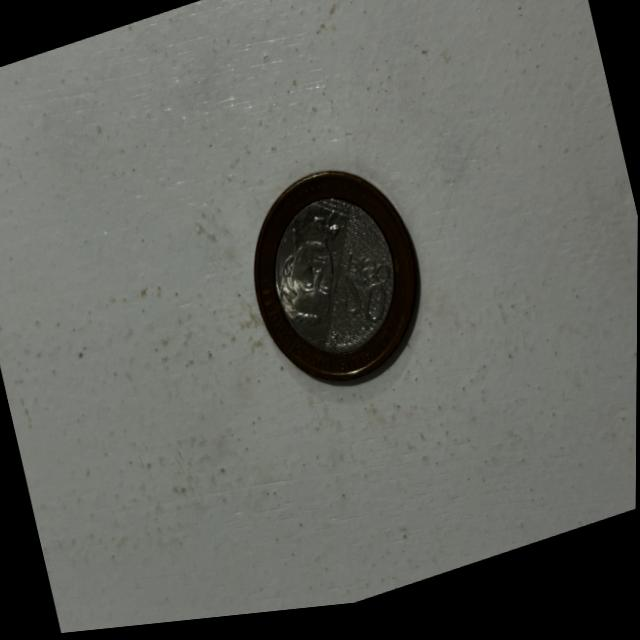20_New_Front: (331, 243, 410, 345)
